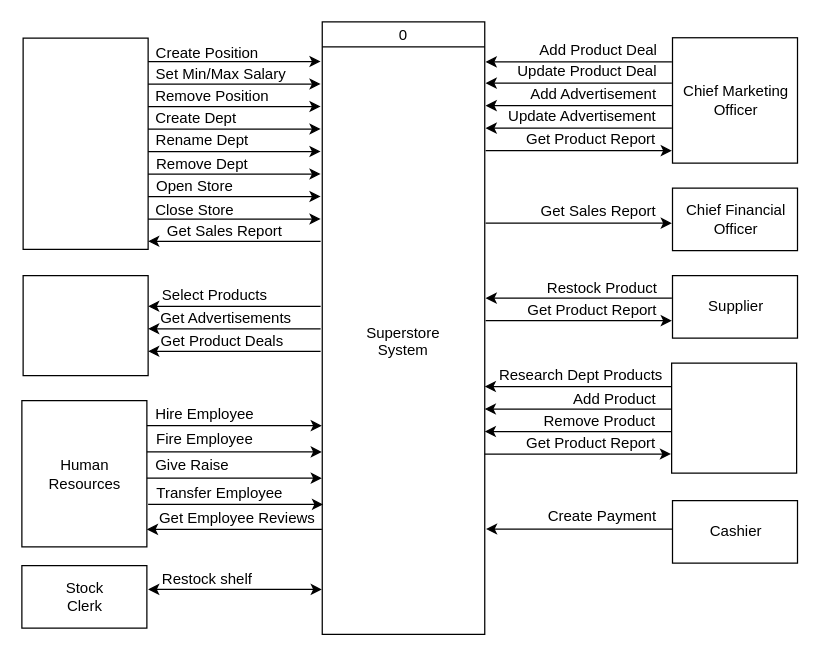
This 820x656 diagram has some shape labels left out. Each missing label, with the box of its shape:
Chief Operations Officer: (22, 37, 148, 249)
Chief Product Officer: (670, 362, 797, 473)
Customer: (22, 274, 148, 376)
